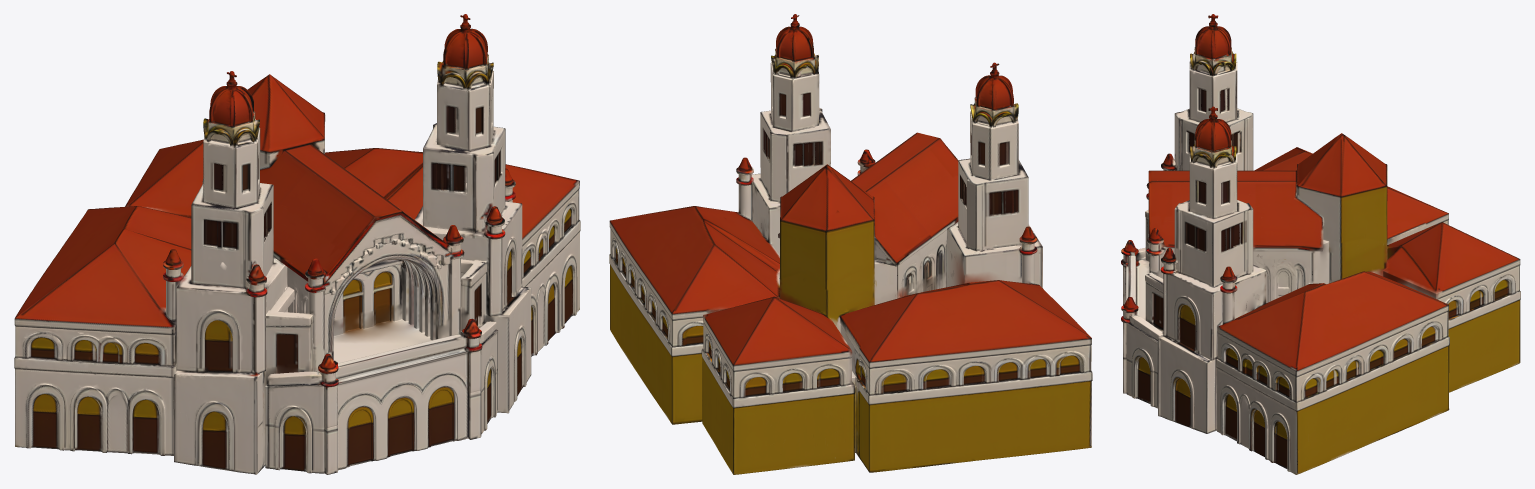
File: lawang_sewu.glb
3 renders of one model, left to right at view 1: azimuth 30°, elevation 25°; view 2: azimuth 150°, elevation 25°; view 3: azimuth 270°, elevation 25°, orthographic. The views are drawn at different scales.
Visible parts, largest first — view 1: convert; view 2: convert; view 3: convert.
Part boxes in pixels (x1,y1,x2,y2): convert: (14, 14, 580, 474); convert: (609, 14, 1092, 474); convert: (1121, 14, 1520, 474).
Size of the model in its own units: 1.02 by 0.6483 by 0.7668.
Materials: 1 (1 with a texture image).
